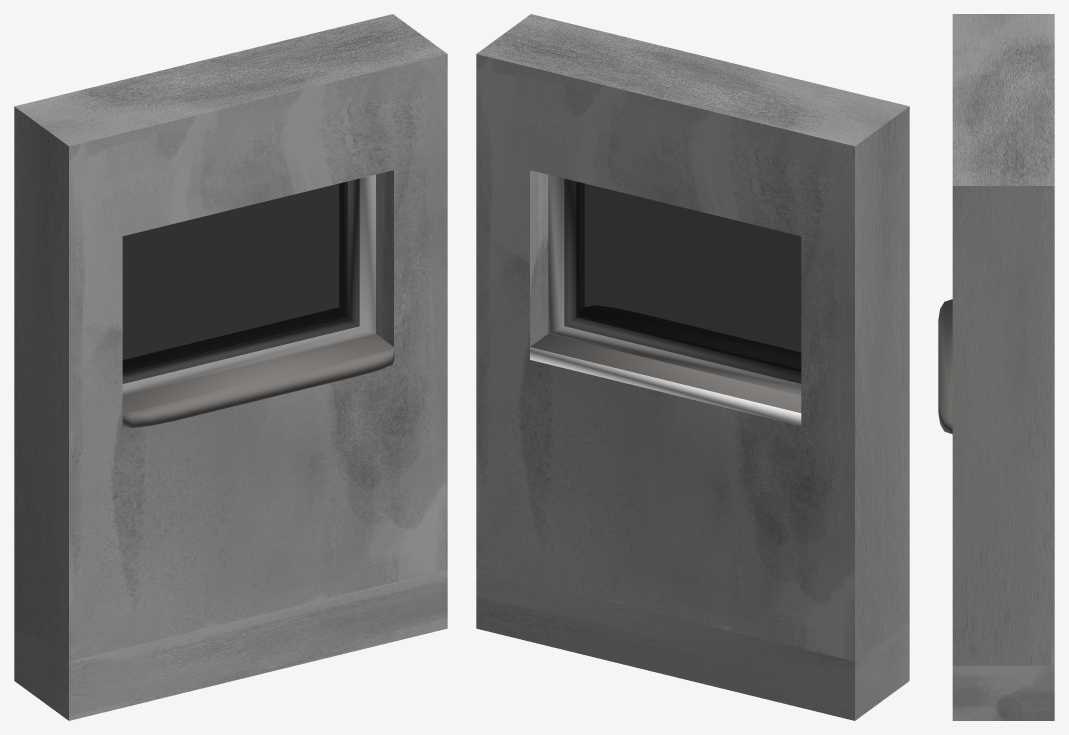
File: Wall_Window_2.fbx
The picture shows the model from 3 angles, left to right: view 1: azimuth 30°, elevation 25°; view 2: azimuth 150°, elevation 25°; view 3: azimuth 270°, elevation 25°; orthographic projection. The views are drawn at different scales.
Parts seen in each view (by area): view 1: WandFenster.001, Fenster.001, Cube.005; view 2: WandFenster.001, Fenster.001, Cube.005; view 3: WandFenster.001, Cube.005, Fenster.001.
Boxes of the visible parts, bbox=[...] form: WandFenster.001: bbox=[14, 14, 447, 661]; Fenster.001: bbox=[122, 174, 394, 427]; Cube.005: bbox=[14, 569, 447, 720]; WandFenster.001: bbox=[476, 14, 909, 661]; Fenster.001: bbox=[530, 174, 801, 425]; Cube.005: bbox=[476, 569, 909, 720]; WandFenster.001: bbox=[952, 14, 1054, 665]; Cube.005: bbox=[952, 665, 1054, 720]; Fenster.001: bbox=[938, 299, 952, 434].
Bounding box in the file's own units: 200 × 290 × 57.01.
